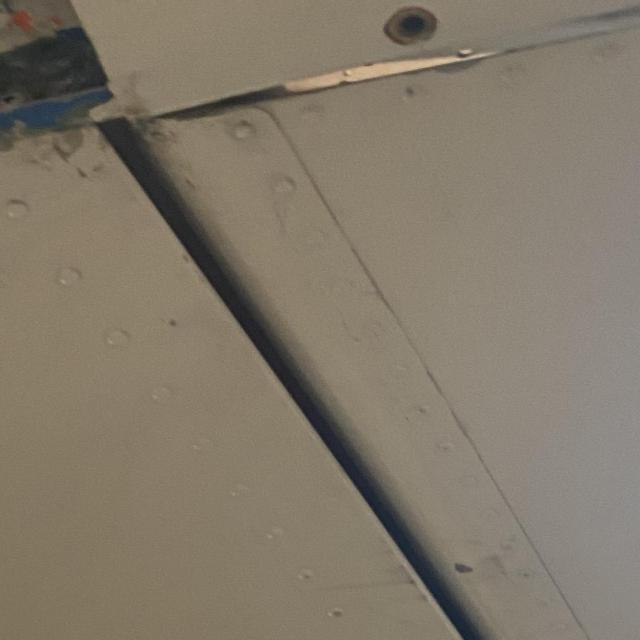Missing-head: (382, 1, 439, 43)
